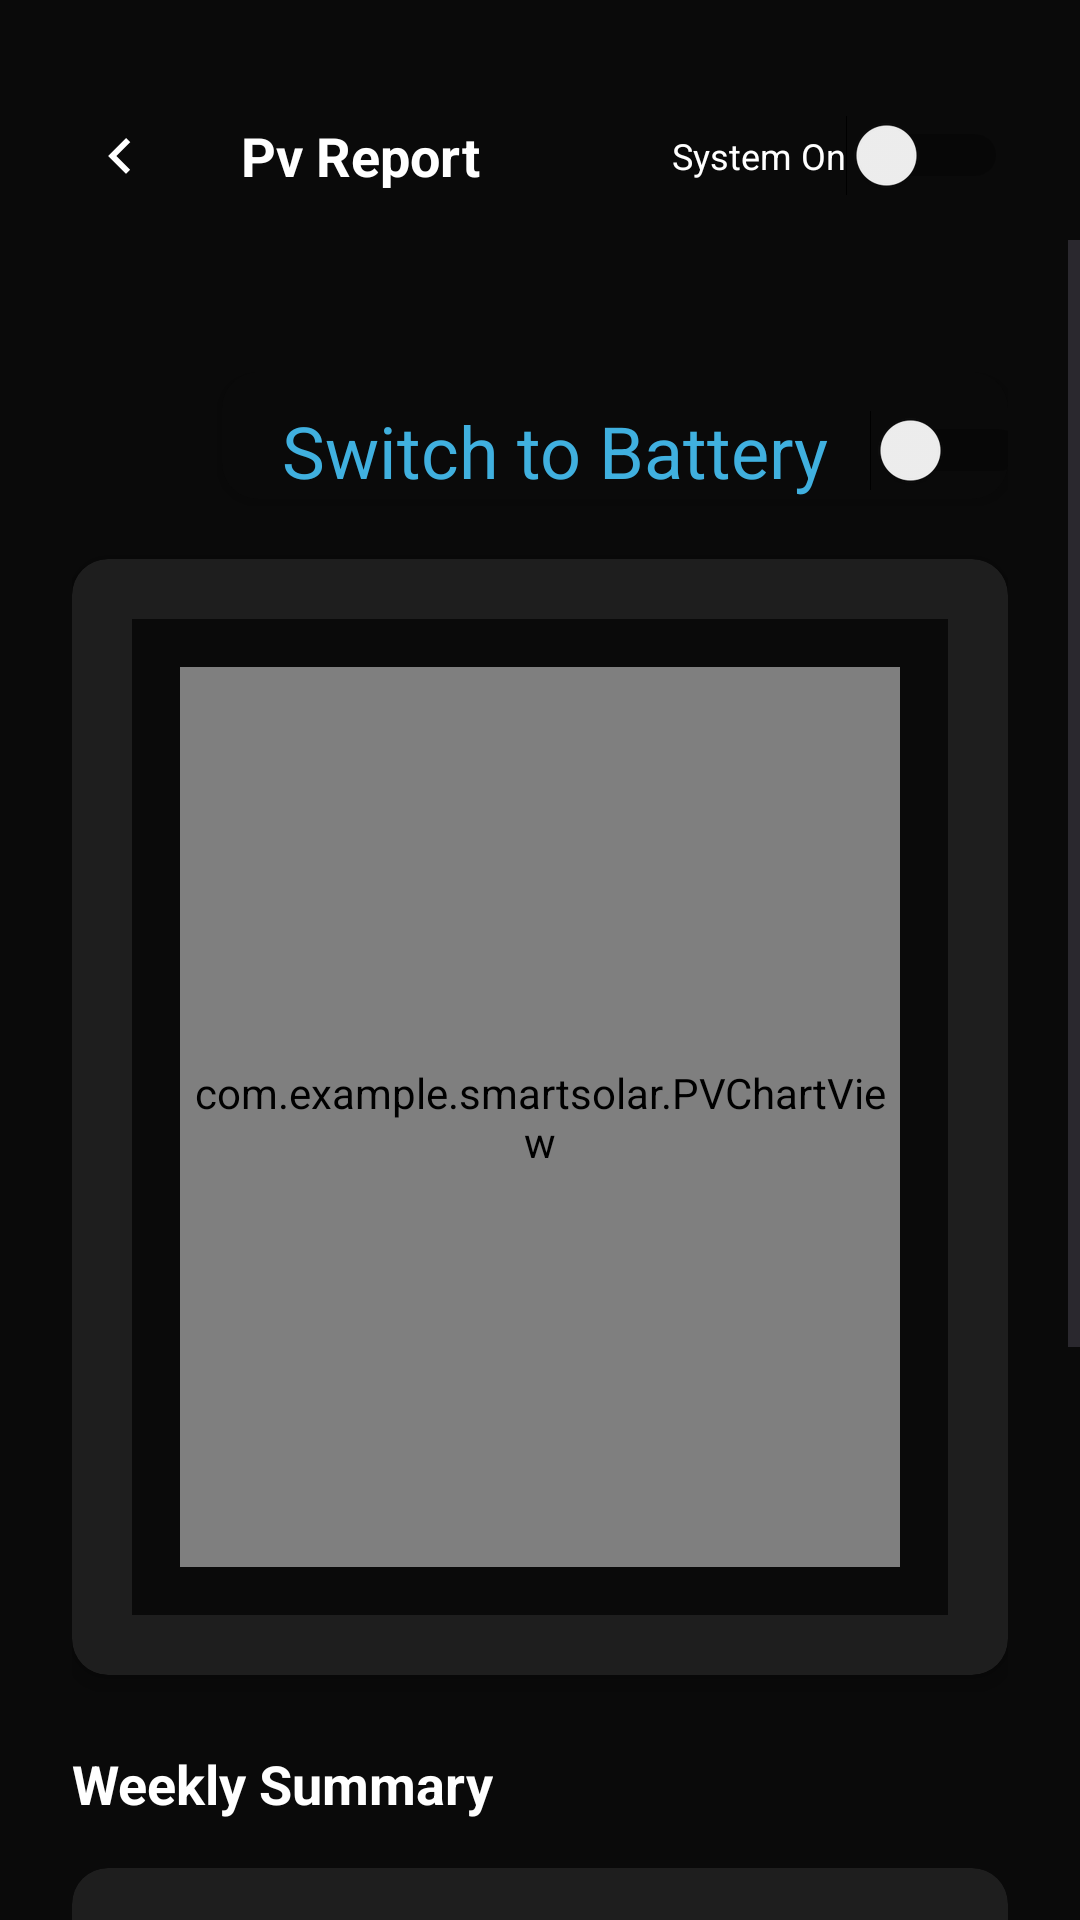

Icon bounding boxes for this 1080px x 1920px phone screenshot, format (x1, y1, x2, y2):
Back: (108, 138, 130, 174)
